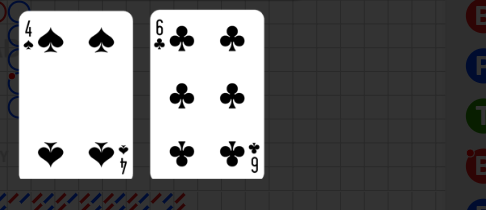4S: (23, 19, 36, 53)
6C: (247, 140, 261, 175)
